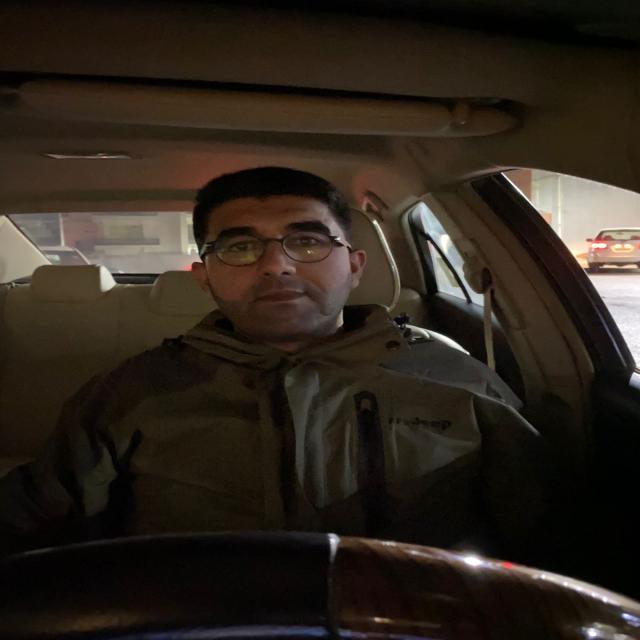person: (182, 167, 369, 349)
